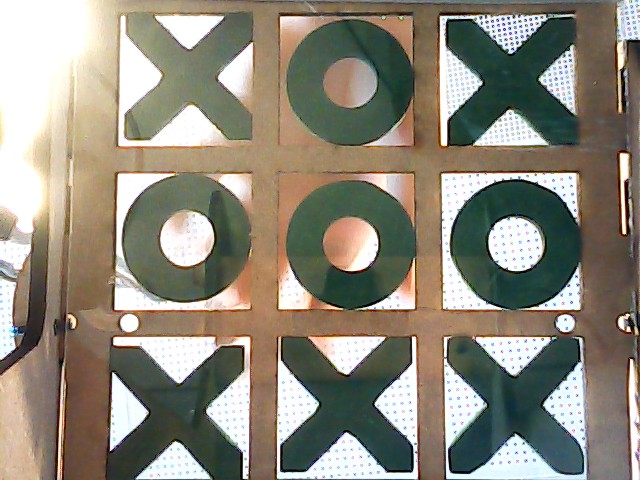O: (441, 173, 585, 309), (117, 172, 253, 306), (279, 171, 412, 306), (279, 15, 414, 147)
X: (443, 338, 585, 477), (278, 336, 415, 477), (113, 339, 248, 478), (443, 13, 580, 149), (121, 14, 255, 143)
